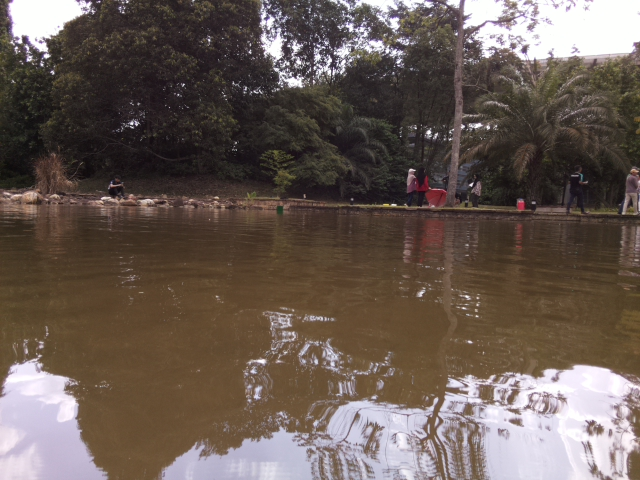obstacle: (276, 206, 284, 214)
